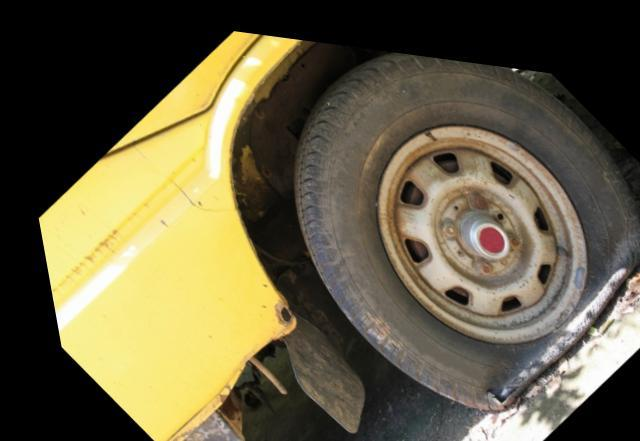tire flat: (286, 41, 640, 397)
